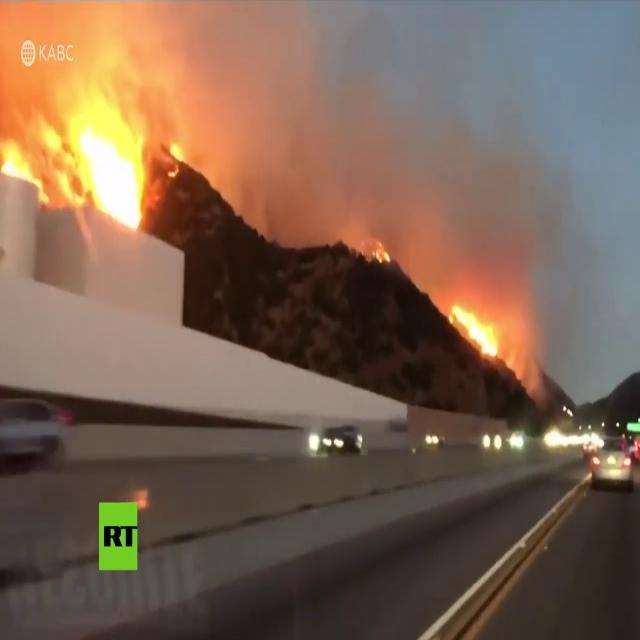Fire: (69, 96, 144, 222), (0, 109, 67, 182), (447, 303, 499, 359), (164, 144, 183, 180), (374, 243, 390, 263)
Smoke: (192, 9, 550, 148), (191, 154, 549, 248), (396, 250, 539, 404)
